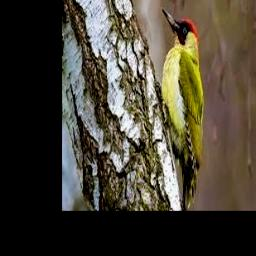Woodpecker: (154, 8, 205, 211)
